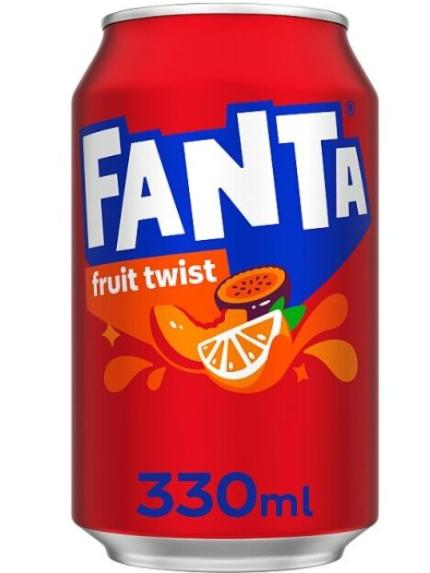brand: (71, 95, 378, 254)
net_weight: (111, 461, 325, 529)
product_name: (85, 245, 234, 306)
